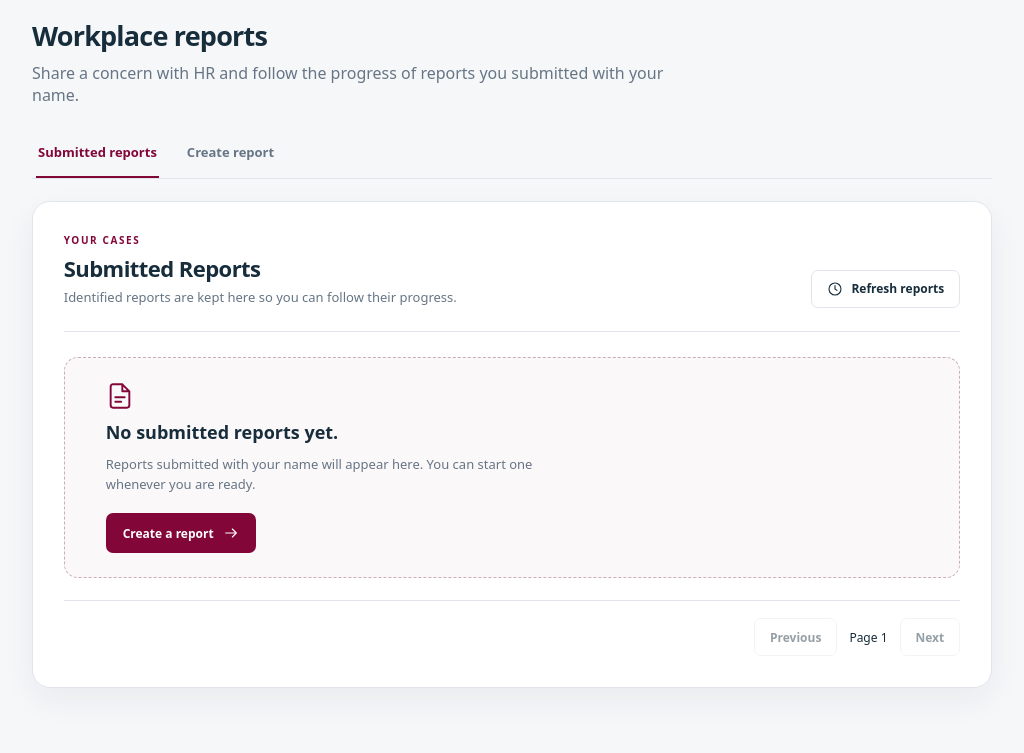
Test: refreshes Submitted Reports immediately after an identified submission
Expected: the heading "No submitted reports yet." is shown, 106,420 -> 338,444
Click the button "Create report".
click(231, 154)  # box 185,130 -> 276,178
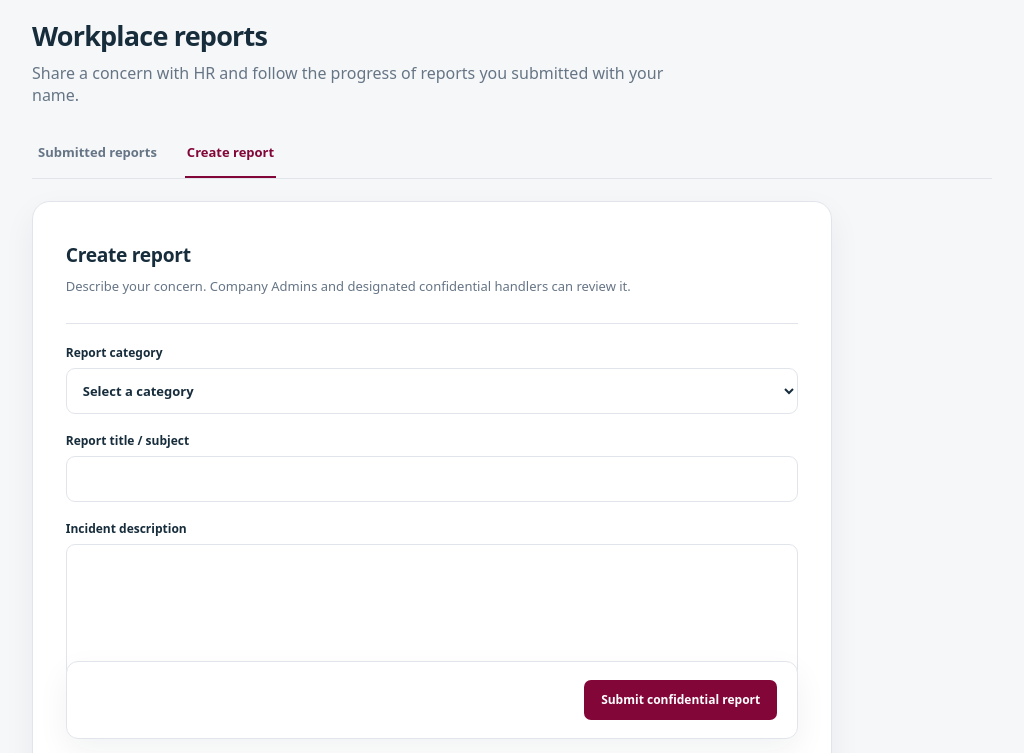
Select "Safety Concern" in the dropdown labelled "Report category" at (432, 391), box 66,368 -> 798,414
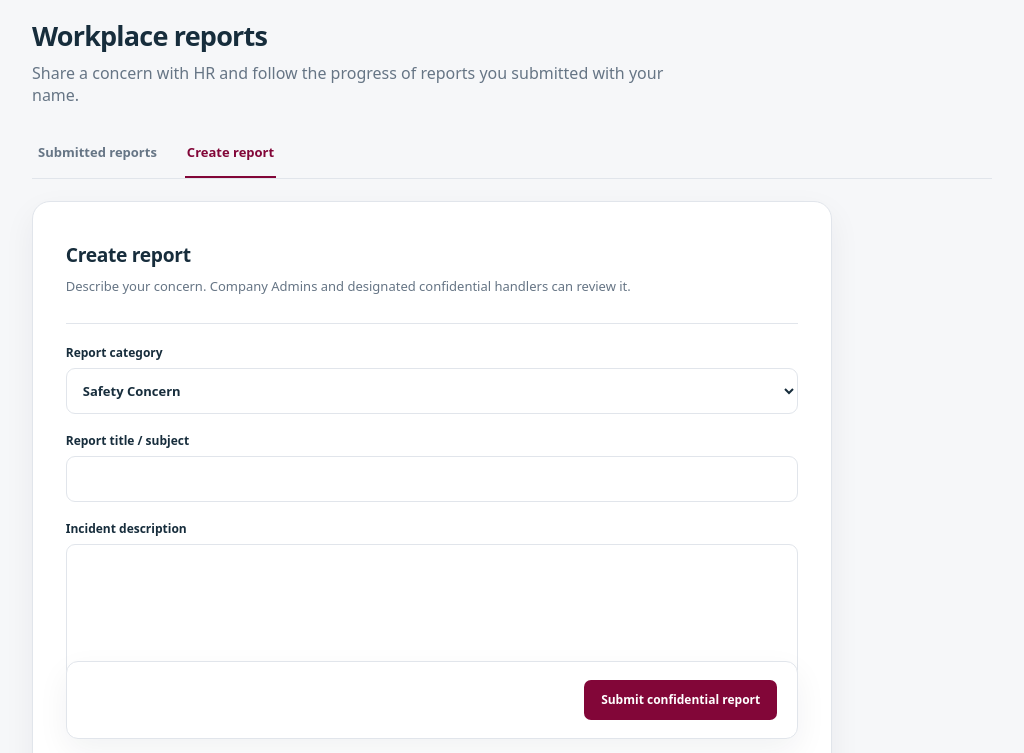
Type "New concern" into the field labelled "Report title / subject".
click(432, 479); type("New concern")  # box 66,456 -> 798,502
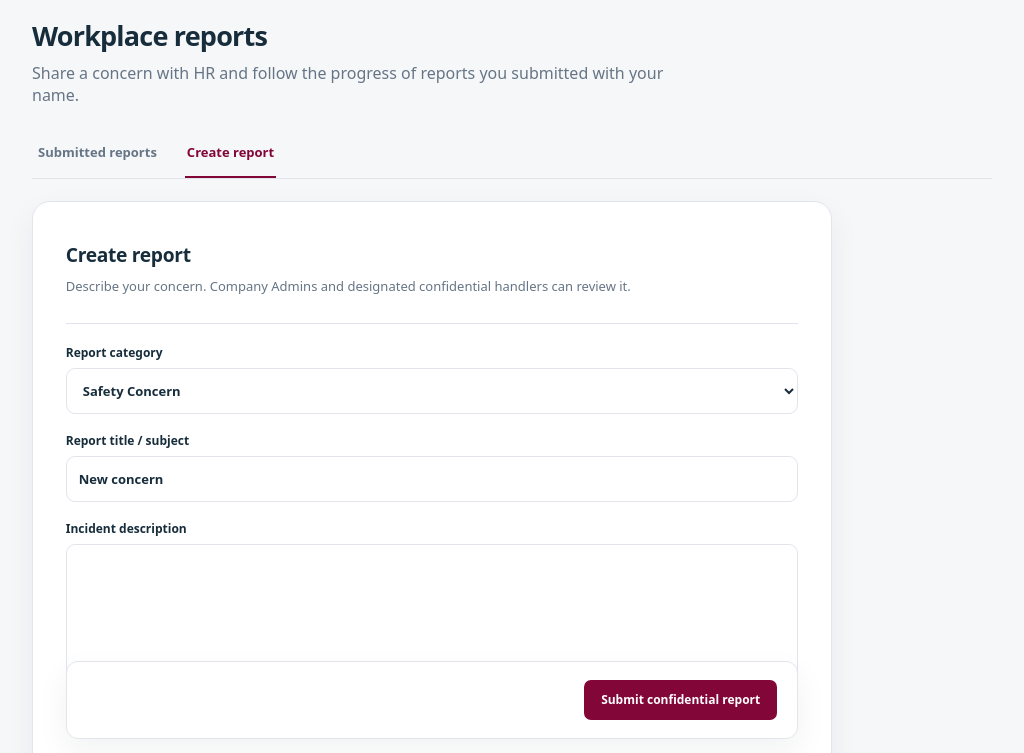
Type "Details" into the text box labelled "Incident description".
click(432, 627); type("Details")  # box 66,544 -> 798,709
(page scrolled)
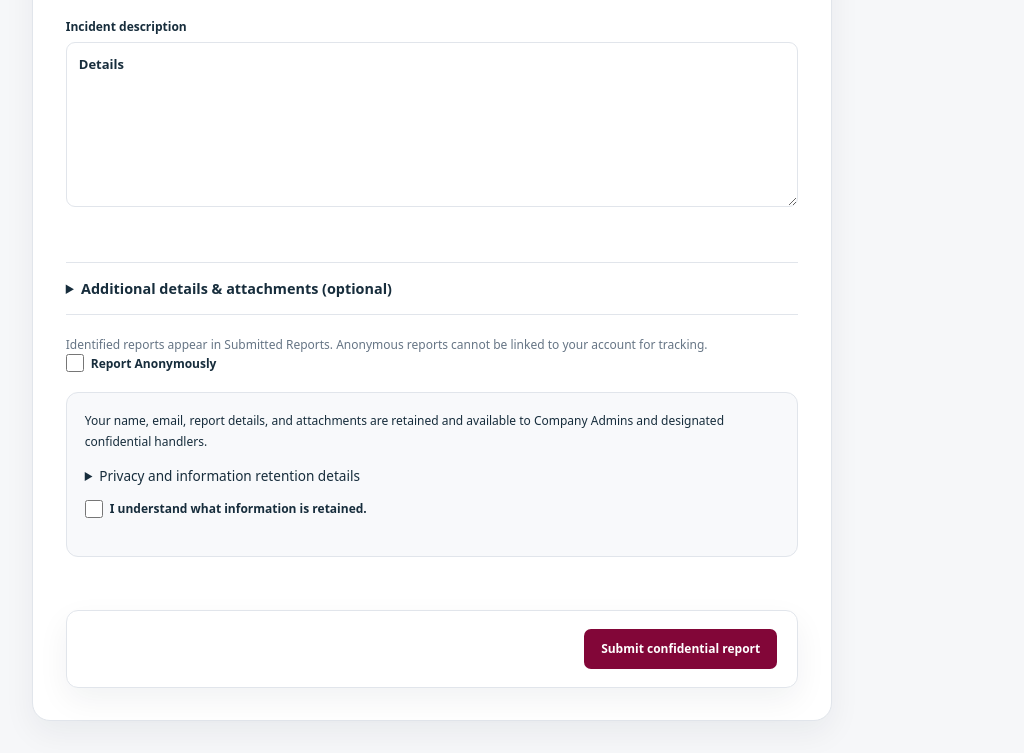
Click the checkbox labelled "I understand what information is retained.".
click(94, 510)  # box 85,500 -> 103,518
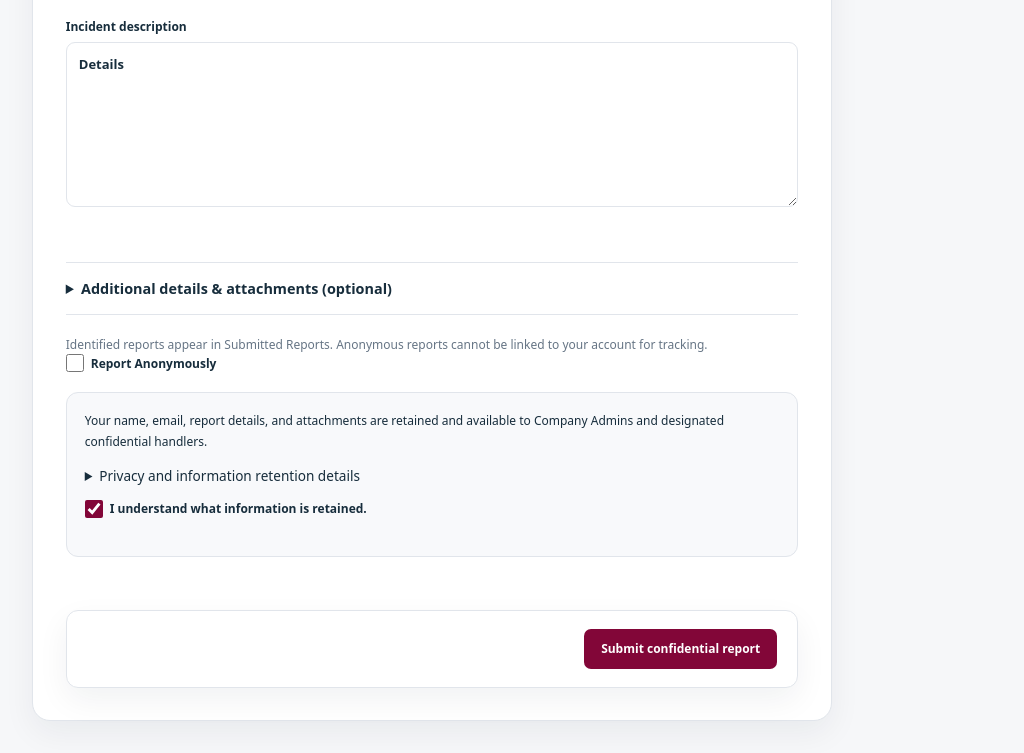
Click the button "Submit confidential report".
click(681, 649)  # box 584,629 -> 777,669
(page scrolled)
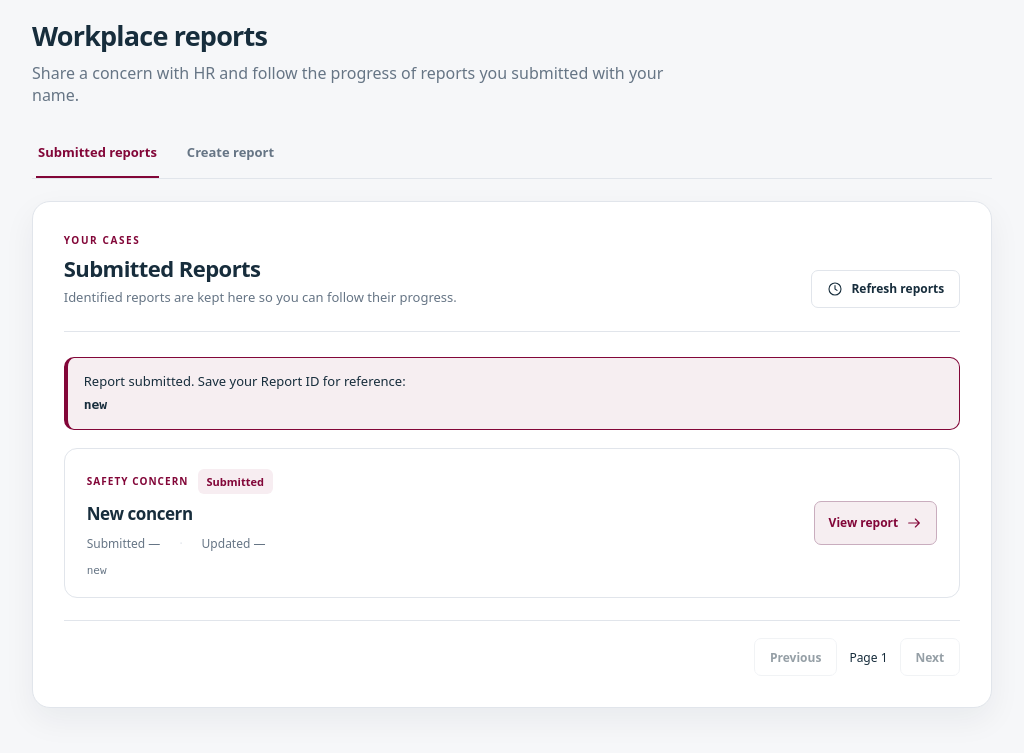
Expected: the button with aria-label "View New concern" is shown, 814,501 -> 937,545
Expected: the text "Report submitted. Save your Report ID for reference: new" is shown, 64,356 -> 960,430
